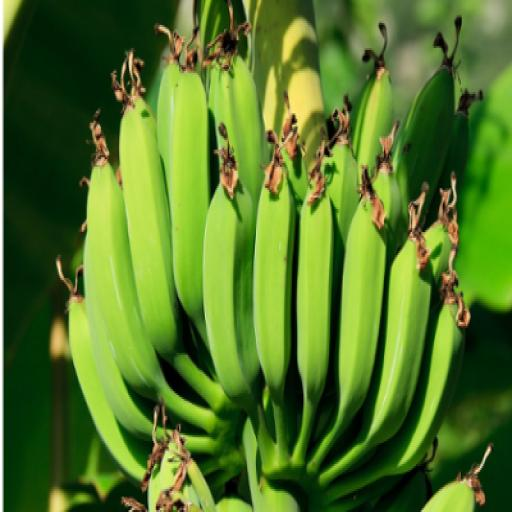banana-unripe: (32, 6, 481, 497)
